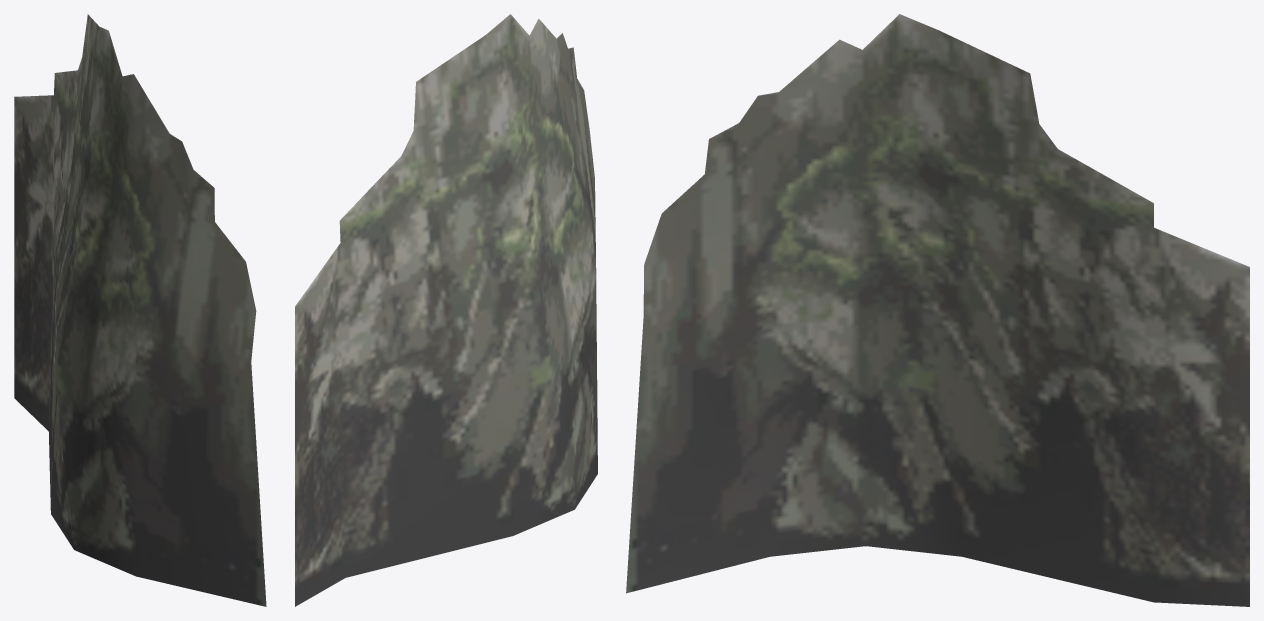
The model's file is BgMD_Mid_Mount_C_01.FBX.
The picture shows the model from 3 angles, left to right: view 1: azimuth 30°, elevation 25°; view 2: azimuth 150°, elevation 25°; view 3: azimuth 270°, elevation 25°; orthographic projection. The views are drawn at different scales.
Visible parts, largest first — view 1: BgMD_Mid_Mount_C_01; view 2: BgMD_Mid_Mount_C_01; view 3: BgMD_Mid_Mount_C_01.
Part boxes in pixels (x1,y1,x2,y2): BgMD_Mid_Mount_C_01: (14,14,266,606); BgMD_Mid_Mount_C_01: (295,14,597,606); BgMD_Mid_Mount_C_01: (626,14,1249,606).
Size of the model in its own units: 300 by 1286 by 1300.
